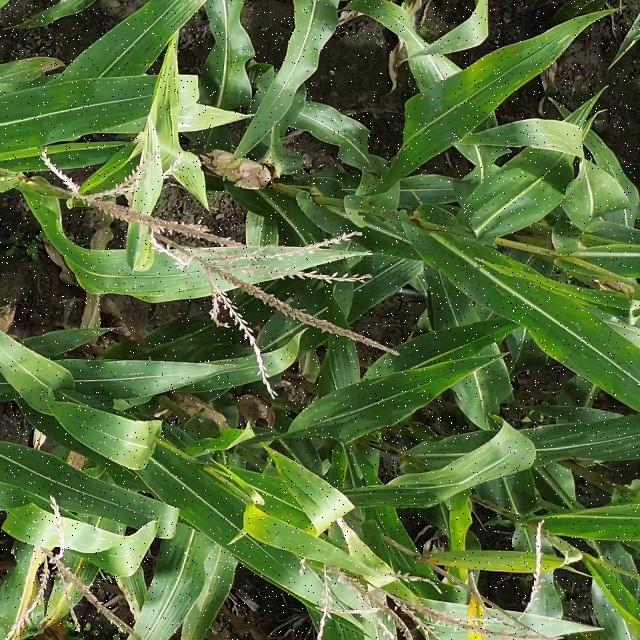gray-leaf-spot: (504, 291, 640, 398), (307, 467, 476, 524), (399, 76, 518, 156), (37, 496, 159, 574), (534, 426, 639, 466)
northern-leaf-blight: (214, 481, 302, 554)
southern-leaf-blight: (105, 363, 294, 415), (69, 85, 156, 140)
